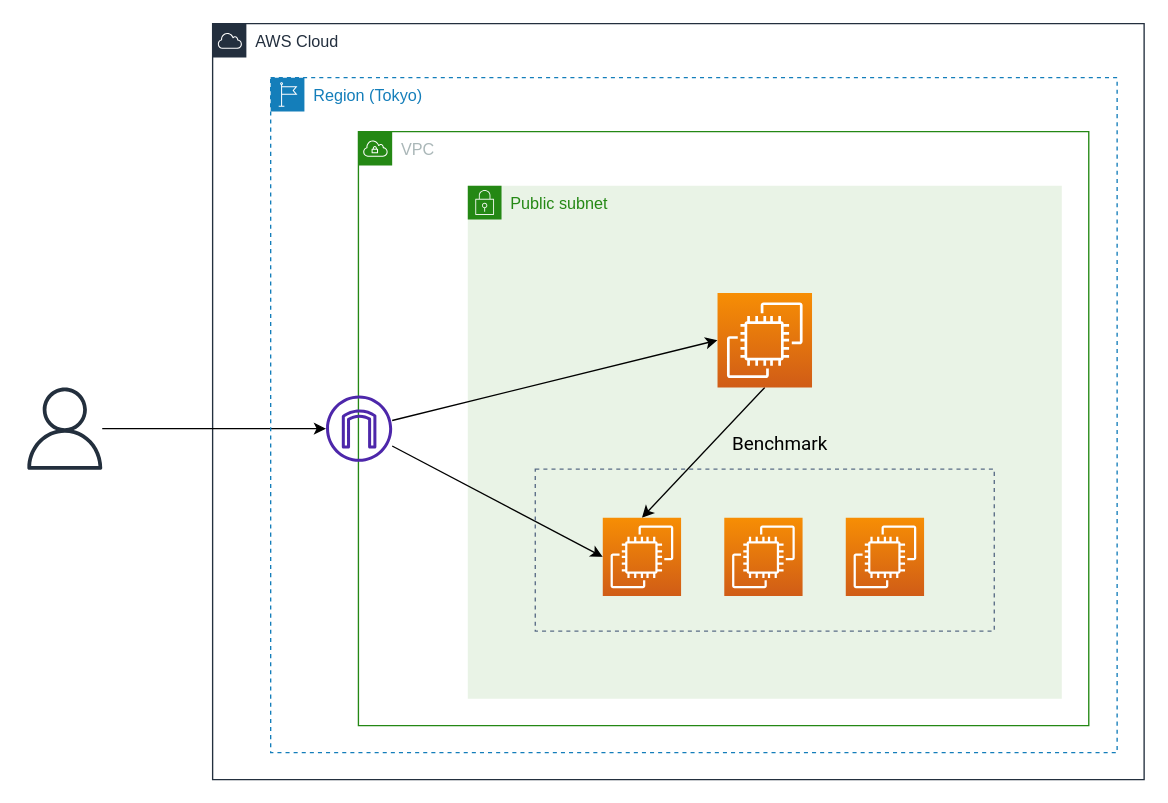
Some shapes in this 1168 by 803 pixel diagram are drawn without their labels. Each missing label, with the box of its shape:
EC2 t3.xlarge (Portal and Bench): (716, 292, 812, 387)
Team: (534, 468, 994, 631)
